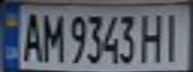3: (84, 11, 106, 64), (118, 11, 139, 64)
4: (103, 11, 124, 64)
9: (63, 11, 87, 64)
A: (18, 9, 45, 63)
H: (139, 10, 166, 63)
I: (157, 9, 187, 63)
M: (39, 9, 66, 63)
